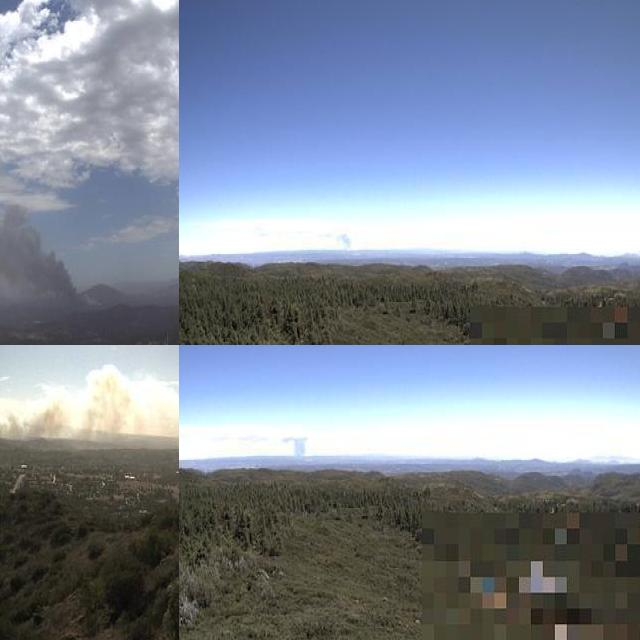smoke: (0, 126, 107, 331), (0, 356, 179, 446), (278, 433, 312, 459), (329, 228, 358, 252)
